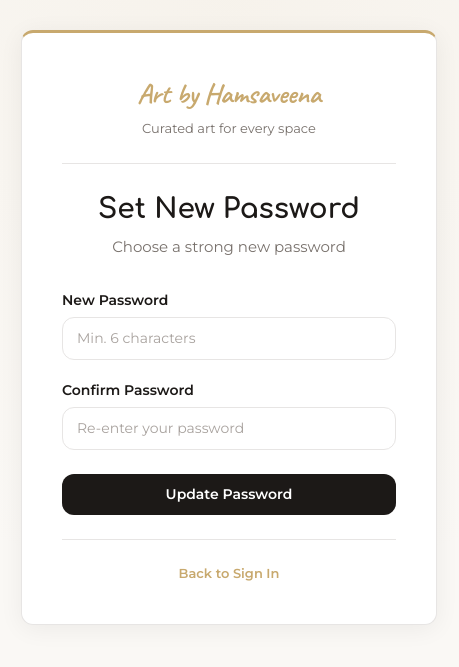
ResetPasswordForm › shows error when confirm field is empty
In the password field labelled "New Password": [229, 338] box 62,317 -> 396,360, type "secure123"
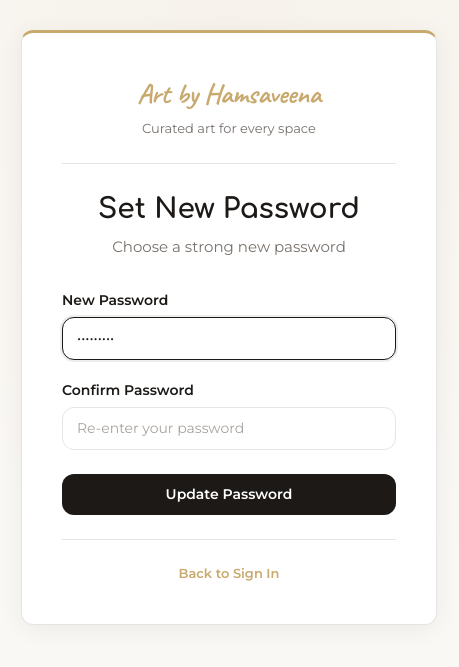
Click the button "Update Password": [229, 494] box 62,474 -> 396,515
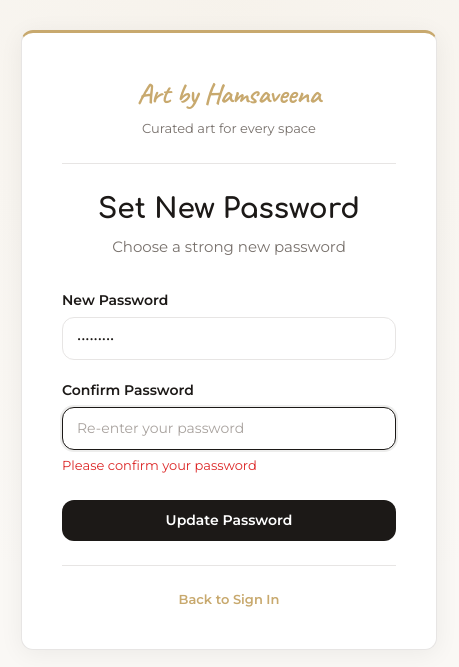
Expected: the text "Please confirm your password" is shown, 62,457 -> 257,473
